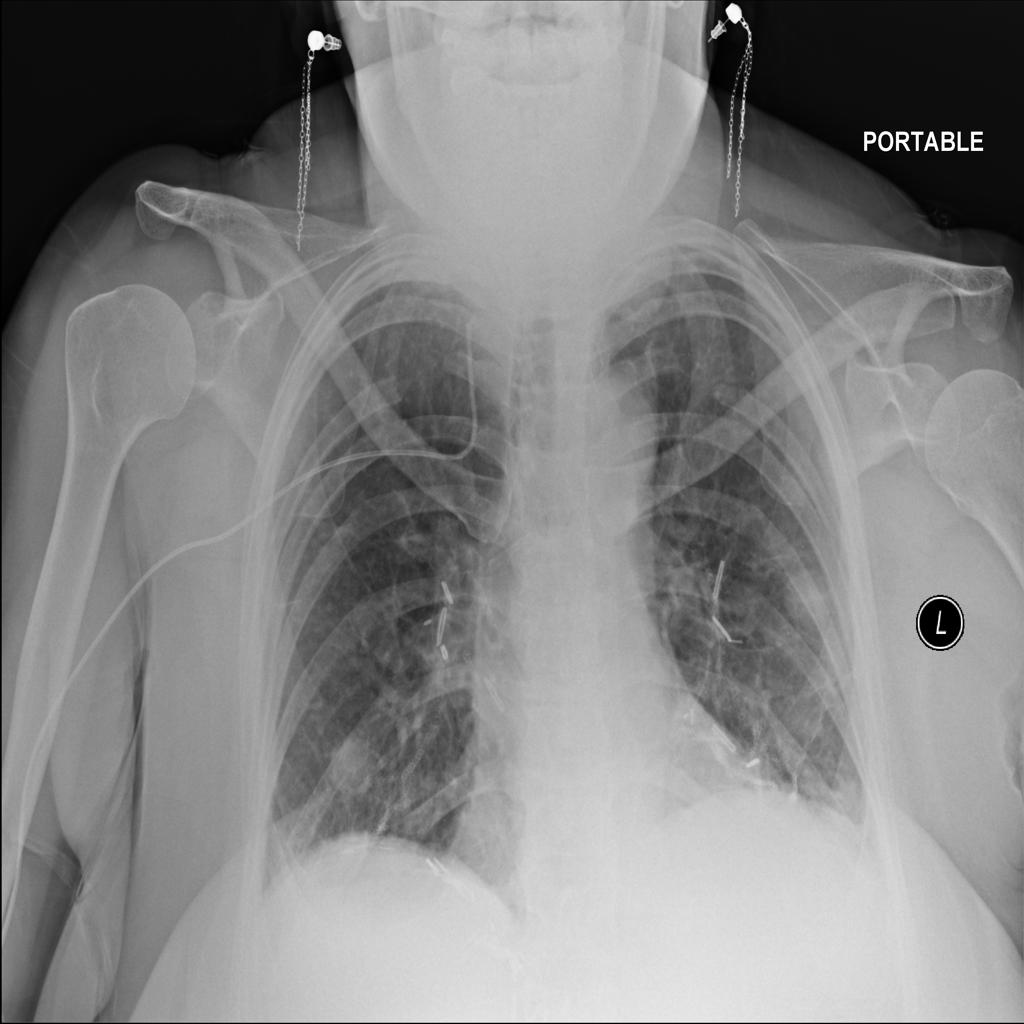nodule: (322, 718, 384, 812), (778, 555, 842, 640)
